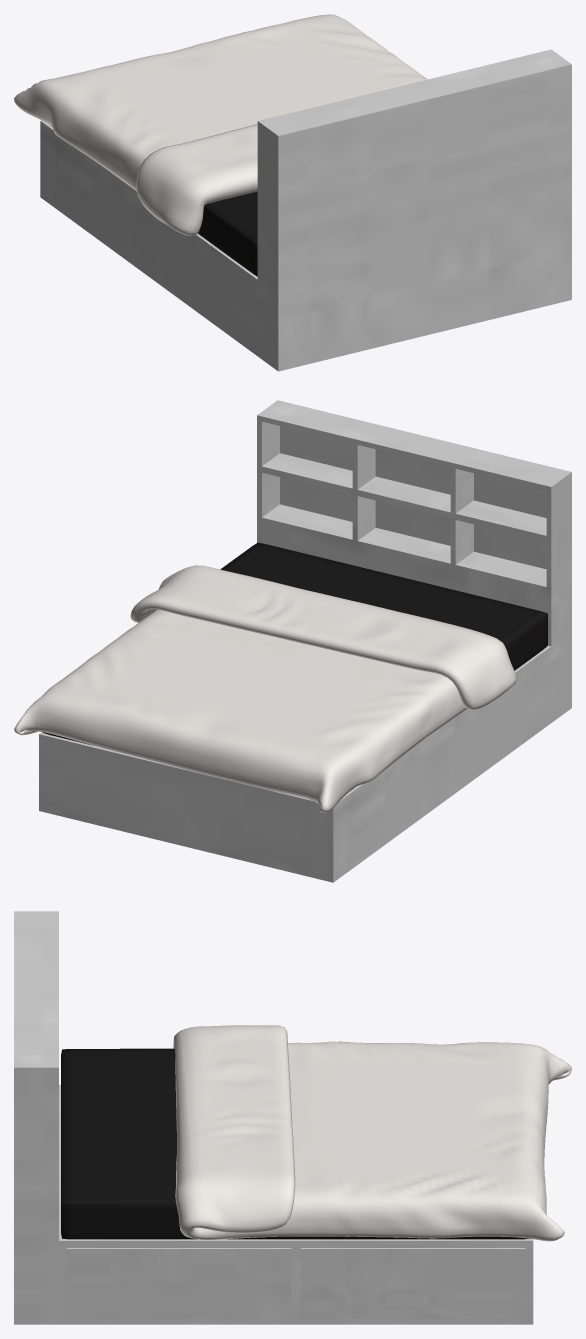
The model's file is Bed16.glb.
3 views of the same model, one above another, from view 1: azimuth 30°, elevation 25°; view 2: azimuth 150°, elevation 25°; view 3: azimuth 270°, elevation 25° (orthographic). The views are drawn at different scales.
Parts seen in each view (by area): view 1: BedFrame16, Blanket16, Mattress16; view 2: BedFrame16, Blanket16, Mattress16; view 3: Blanket16, BedFrame16, Mattress16, BedFrame16_Drawer01, BedFrame16_Drawer02.
Boxes of the visible parts, left/top/right/bottom form: BedFrame16: left=40, top=49, right=571, bottom=371; Blanket16: left=14, top=14, right=427, bottom=235; Mattress16: left=50, top=125, right=257, bottom=276; BedFrame16: left=39, top=400, right=571, bottom=882; Blanket16: left=14, top=565, right=516, bottom=812; Mattress16: left=43, top=542, right=547, bottom=790; Blanket16: left=173, top=1025, right=571, bottom=1241; BedFrame16: left=14, top=911, right=533, bottom=1324; Mattress16: left=61, top=1048, right=529, bottom=1239; BedFrame16_Drawer01: left=66, top=1248, right=291, bottom=1318; BedFrame16_Drawer02: left=301, top=1248, right=525, bottom=1318.
Bounding box in the file's own units: 4.21 × 2.71 × 5.33.
Materials: 3 (3 with a texture image).
